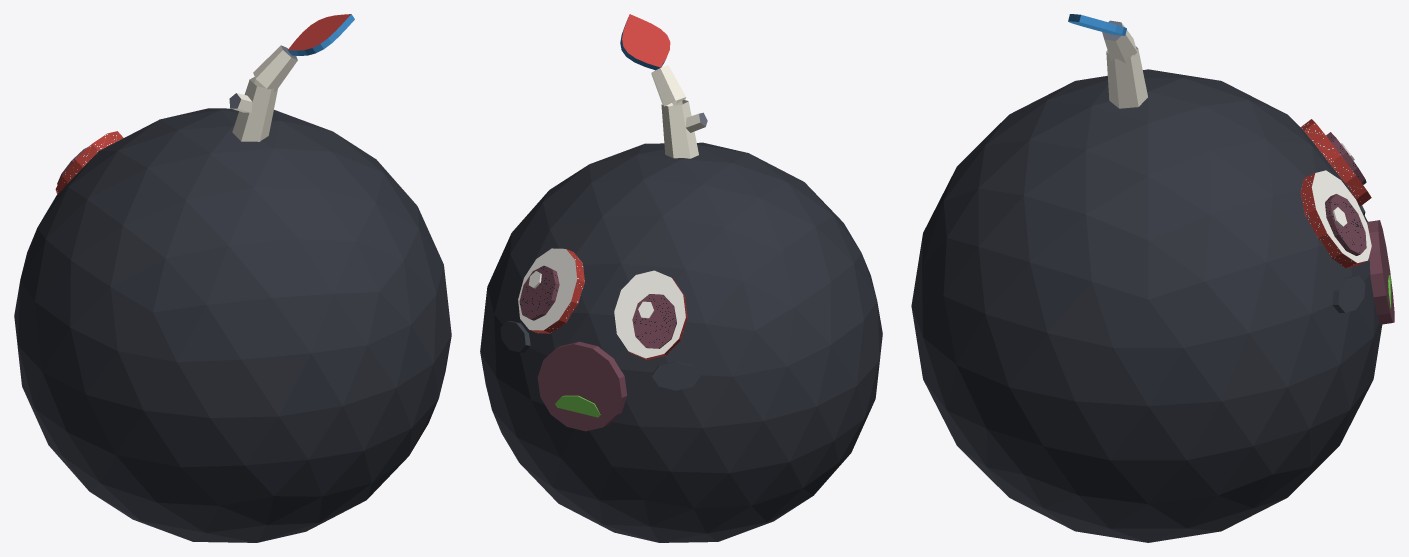
File: CH_Dalcik_T2_Eat.fbx
3 views of the same model, side by side, from view 1: azimuth 30°, elevation 25°; view 2: azimuth 150°, elevation 25°; view 3: azimuth 270°, elevation 25° (orthographic). The views are drawn at different scales.
Parts seen in each view (by area): view 1: CH_Dalcik_T2_Eat; view 2: CH_Dalcik_T2_Eat; view 3: CH_Dalcik_T2_Eat.
Boxes of the visible parts, x1,y1,x2,y2 form: CH_Dalcik_T2_Eat: [14, 14, 451, 542]; CH_Dalcik_T2_Eat: [480, 14, 882, 542]; CH_Dalcik_T2_Eat: [911, 14, 1394, 542].
Size of the model in its own units: 1 by 1.29 by 1.02.
